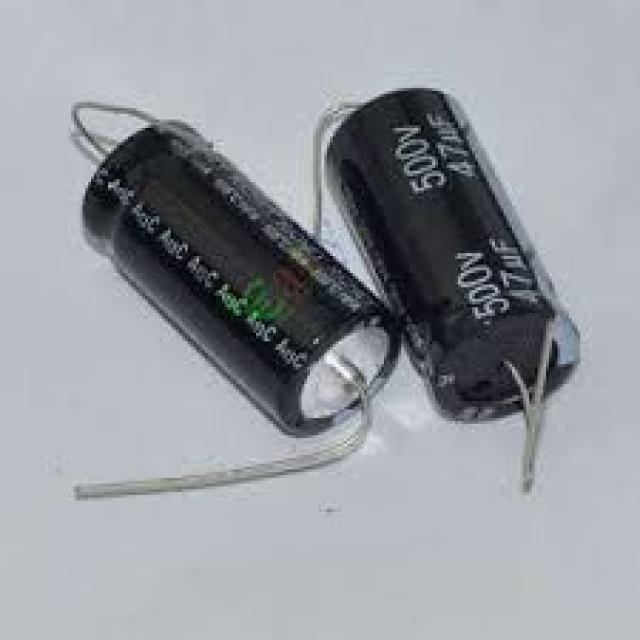Capacitor: (74, 85, 583, 501)
